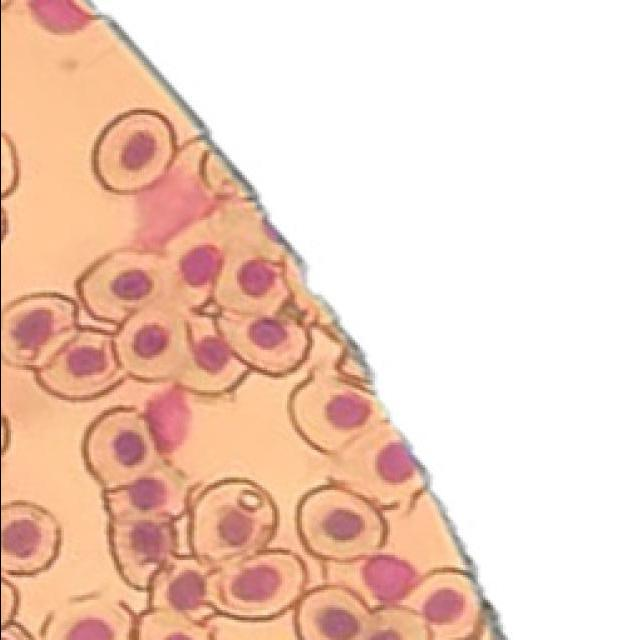RBC: (189, 477, 278, 569), (327, 426, 424, 508), (287, 378, 386, 457), (33, 326, 127, 402), (76, 248, 166, 324), (92, 110, 173, 194), (213, 311, 310, 379), (296, 486, 385, 560), (208, 242, 292, 320), (206, 552, 303, 619), (396, 566, 483, 640), (112, 304, 192, 382), (0, 291, 78, 370), (173, 316, 249, 395), (81, 408, 153, 488), (100, 462, 190, 522), (0, 502, 65, 577), (108, 520, 176, 590), (147, 558, 214, 624), (41, 598, 136, 640), (296, 588, 368, 640), (363, 608, 428, 640)
WBC: (144, 388, 189, 452), (361, 555, 415, 602), (178, 245, 221, 288)
